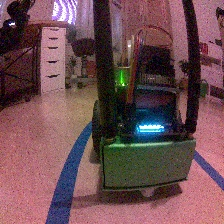rob: (90, 42, 197, 198)
